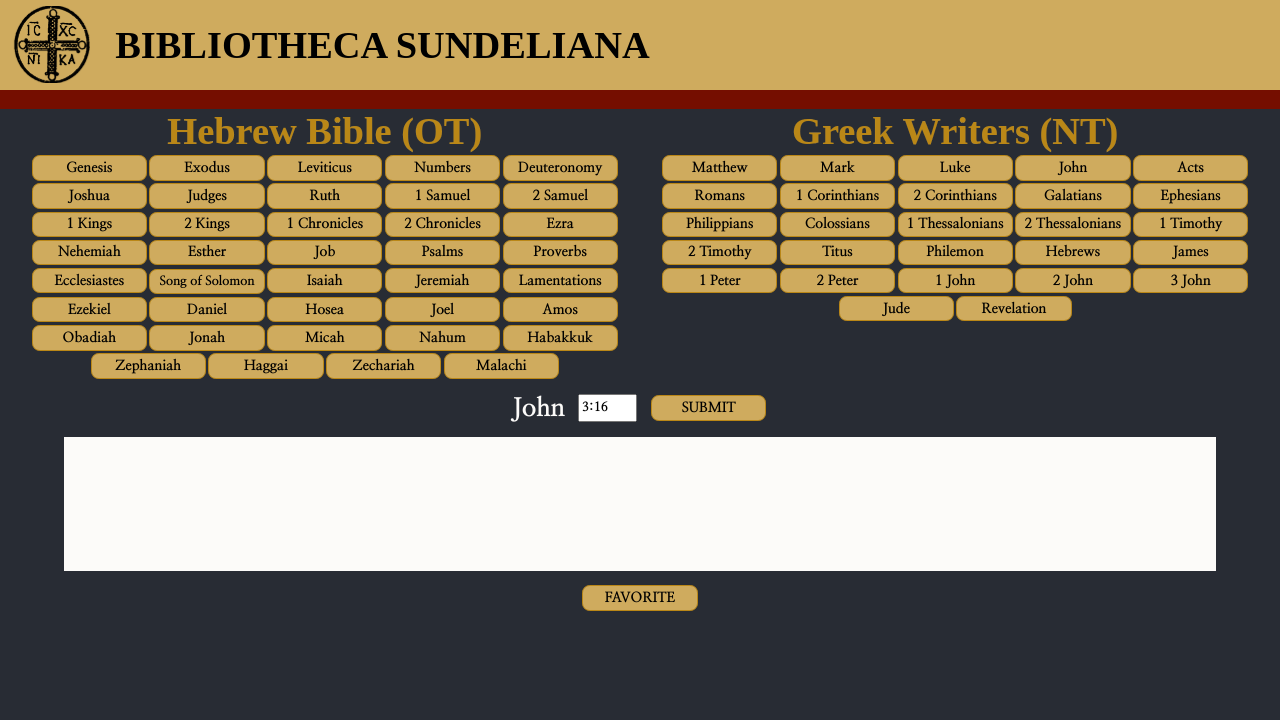
it: filter page › Should change selection to that book
The image size is (1280, 720).
Click the button with id "MRK". click: (838, 168)
box: [780,155,895,181]
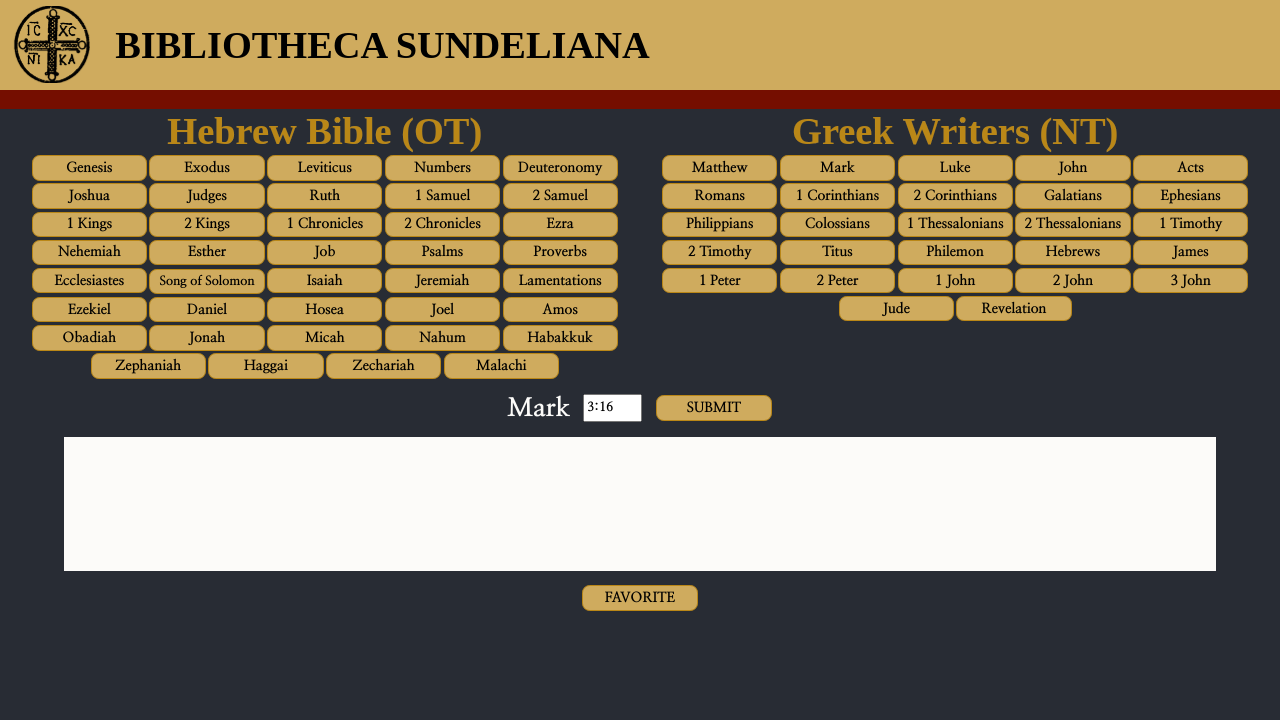
Expected: the heading with class "selected-book-name" reads "Mark", [507,393,570,424]
